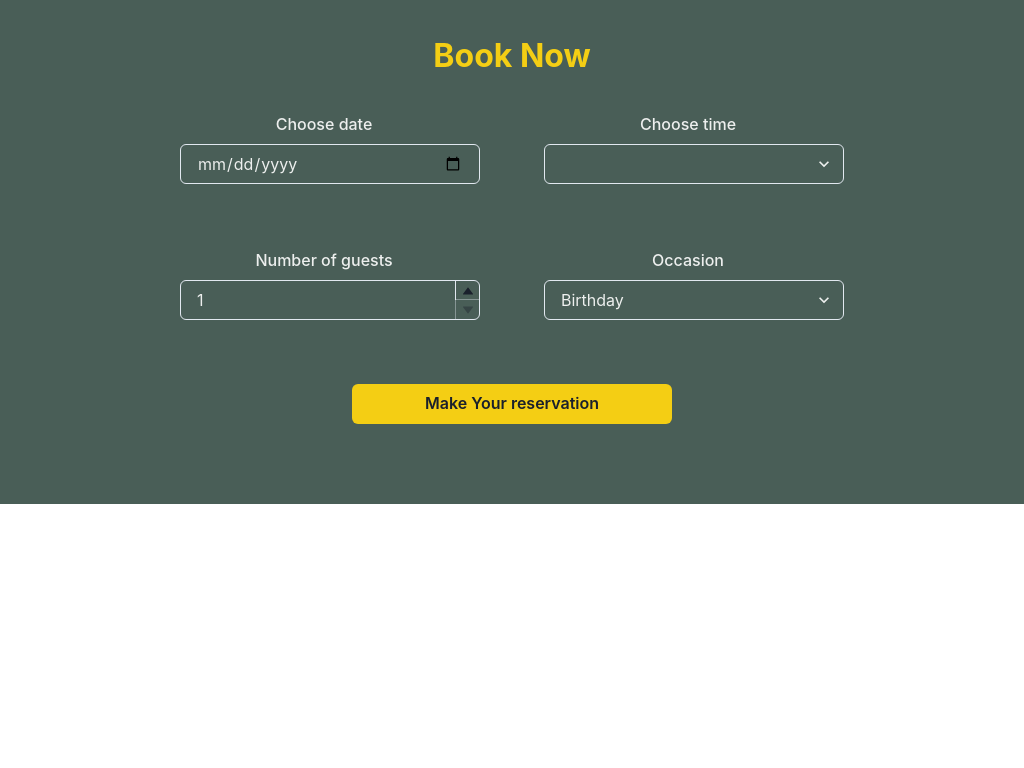
Test: guests should show error when it has no value after touching it
Clear the number field named "guests" at coordinates (330, 300), box [180, 280, 480, 320]
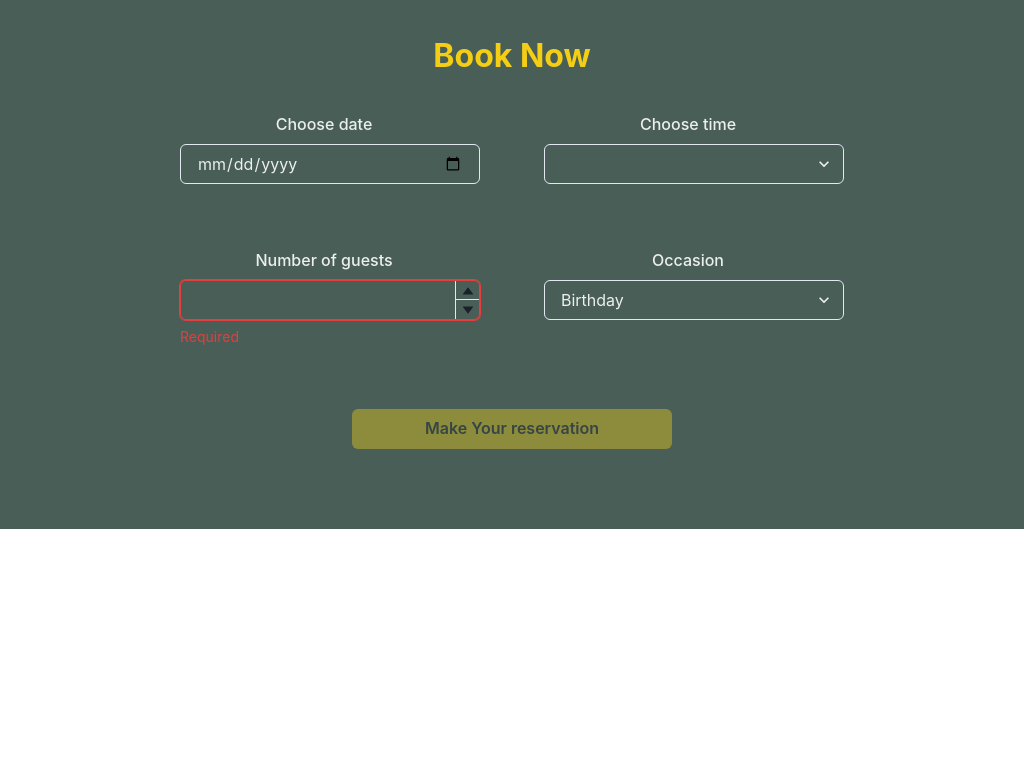
Expected: the text "Required" is shown, [180, 328, 239, 345]
